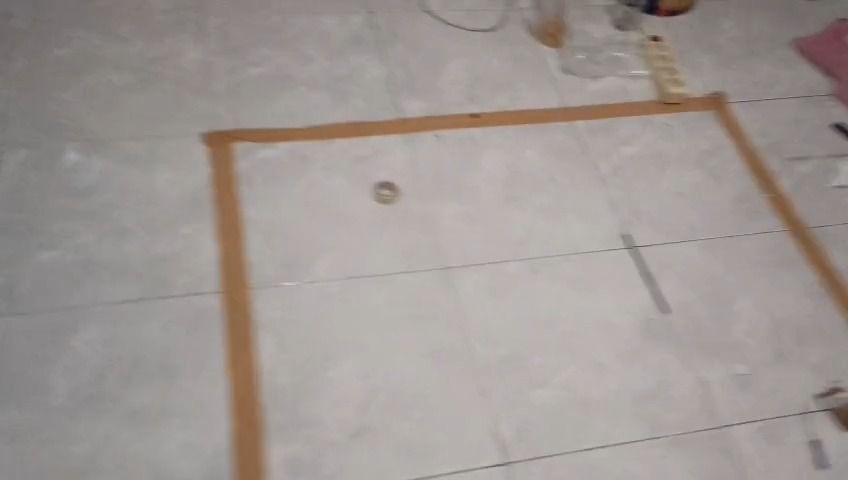floor marking: (203, 92, 847, 479)
